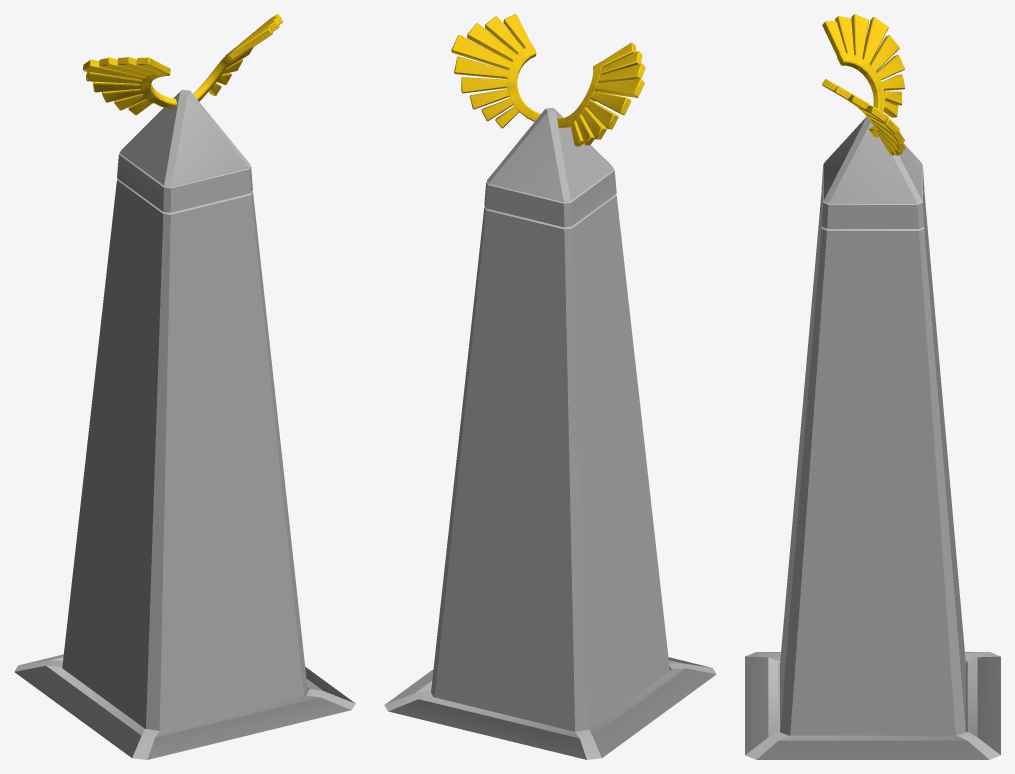
File: MonumentWinged.fbx
The picture shows the model from 3 angles, left to right: view 1: azimuth 30°, elevation 25°; view 2: azimuth 150°, elevation 25°; view 3: azimuth 270°, elevation 25°; orthographic projection. The views are drawn at different scales.
Visible parts, largest first — view 1: MonumentWinged_LOD0; view 2: MonumentWinged_LOD0; view 3: MonumentWinged_LOD0.
Boxes of the visible parts, x1,y1,x2,y2 form: MonumentWinged_LOD0: (14,14,355,759); MonumentWinged_LOD0: (384,14,716,759); MonumentWinged_LOD0: (745,14,1000,759).
Size of what is drawn, in the model's own units: 2172 by 6143 by 2172.
